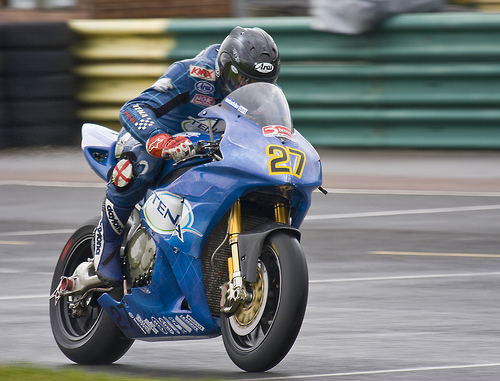helmet: (221, 27, 278, 91)
